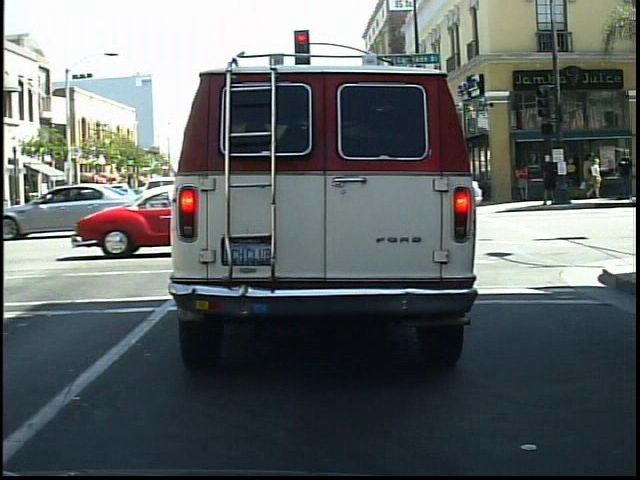person: (612, 141, 636, 209), (539, 151, 562, 210), (514, 156, 534, 204)
